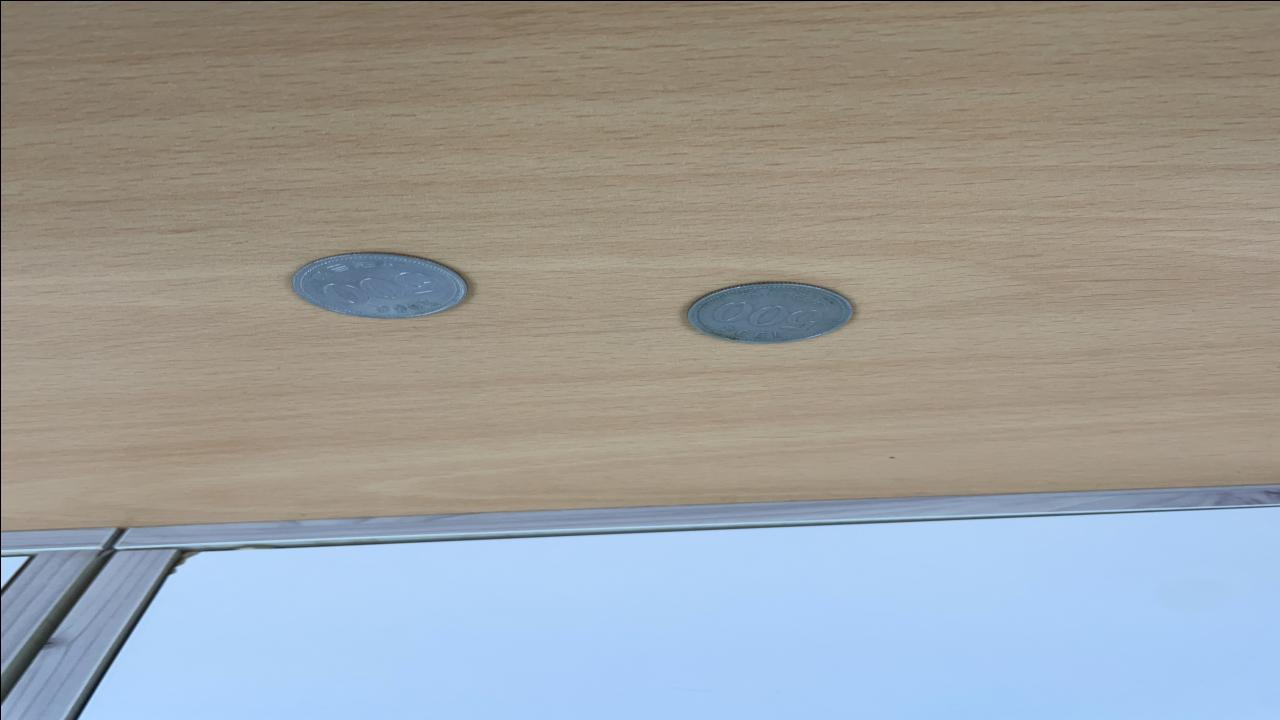coin: (288, 251, 474, 319), (684, 280, 860, 344)
